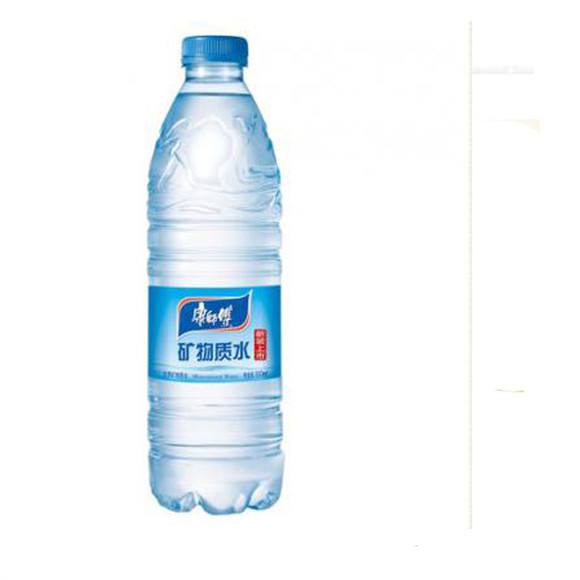amwater: (125, 22, 308, 536)
